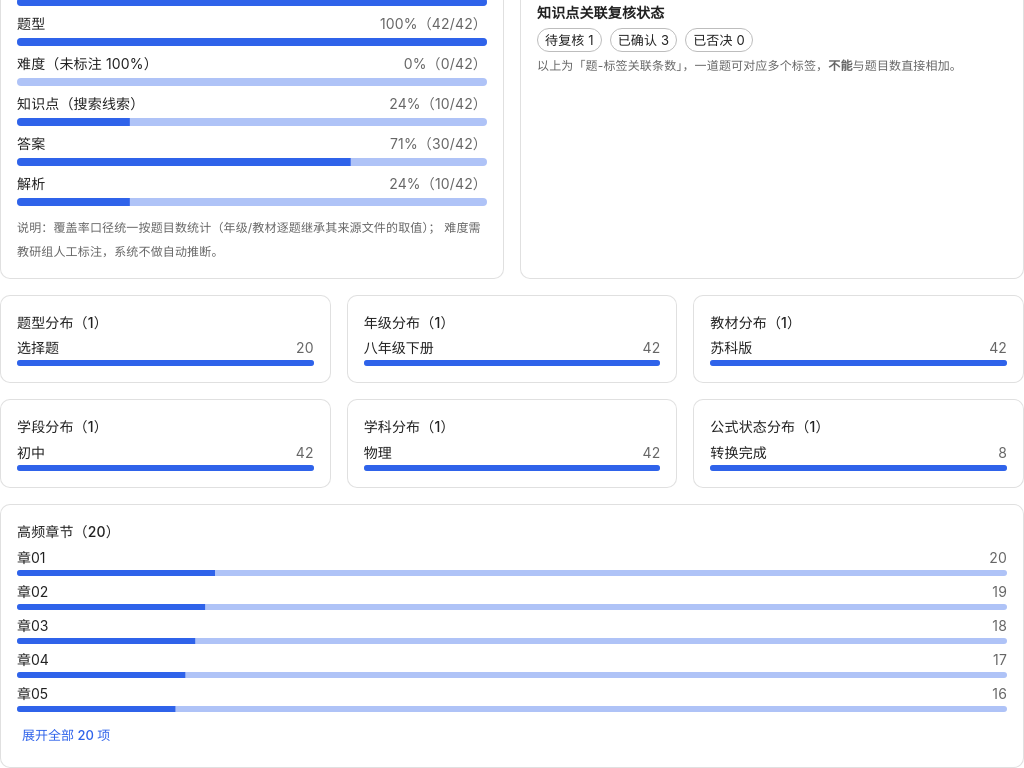
Test: B4-4 题库统计分布 Top5 › 20 项默认 Top5，可展开为全部再收起；条形分母按完整 rows（非可见行）
The image size is (1024, 768).
(page scrolled)
Expected: the button "章01" is shown, [17, 548, 46, 568]
Expected: the text "章06" is not shown
// 展开为全部 20 行，分母不变。
Click the button with aria-label "高频章节 展开全部 20 项": click(66, 736) [17, 720, 115, 751]
(page scrolled)
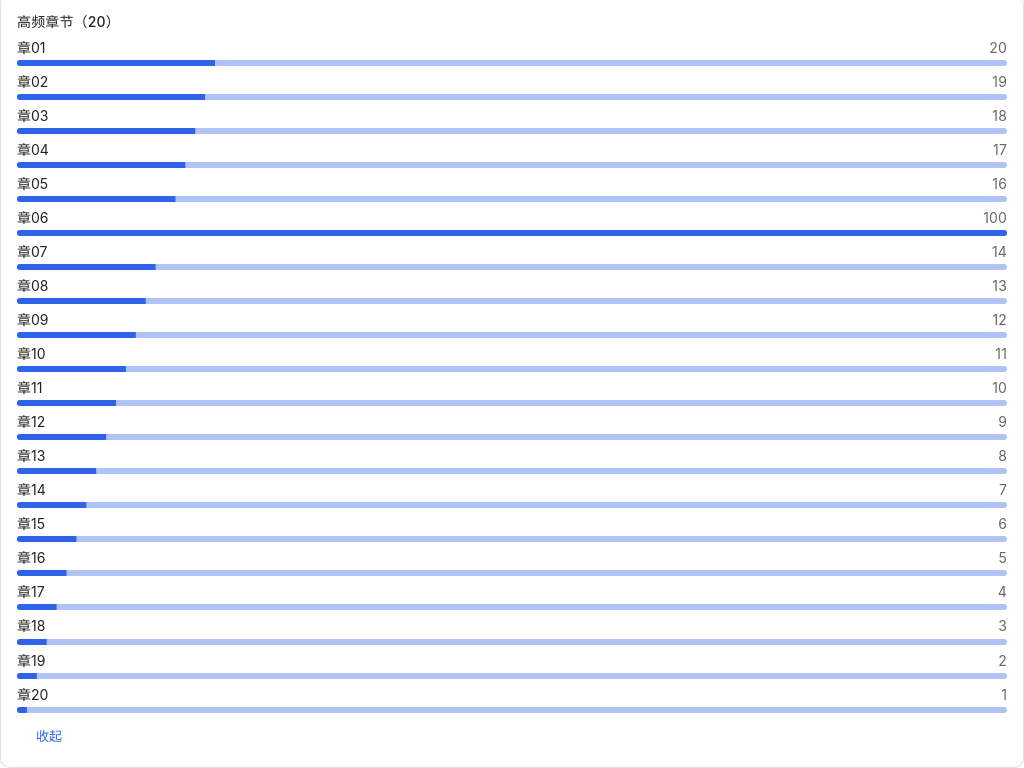
Expected: the button "章06" is shown, [17, 208, 48, 228]
Expected: the button "章20" is shown, [17, 684, 48, 704]
// 收起回 5 行。
Click the button with aria-label "高频章节 收起": click(49, 736) [17, 720, 81, 751]
(page scrolled)
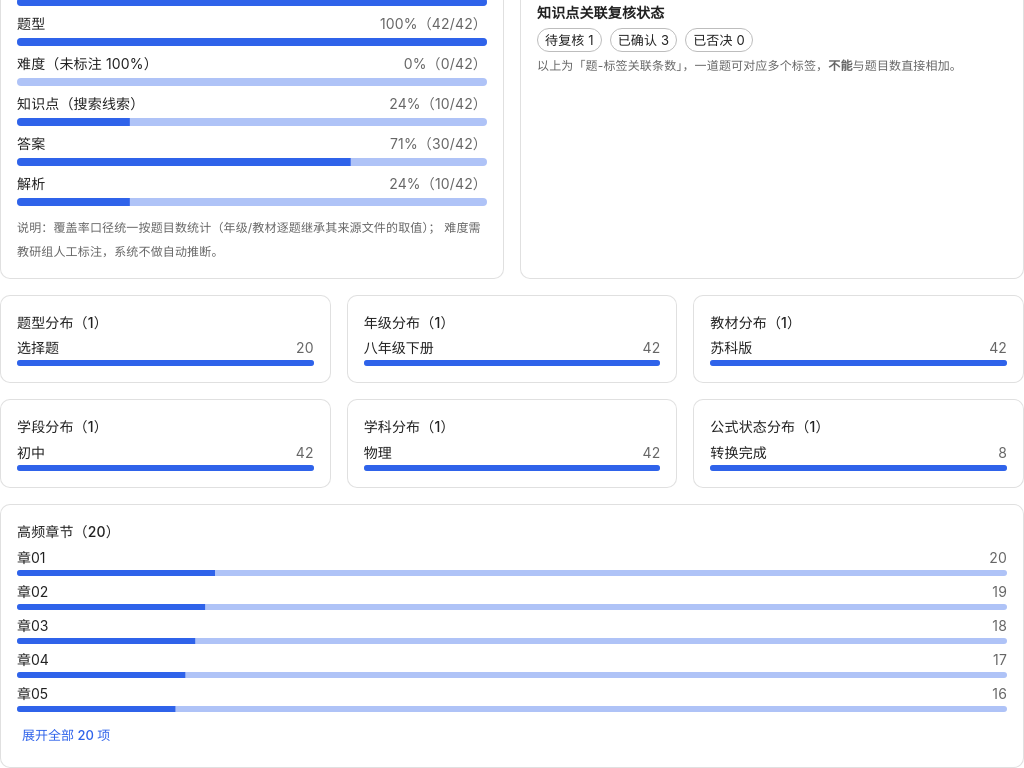
Expected: the button "章06" is gone
